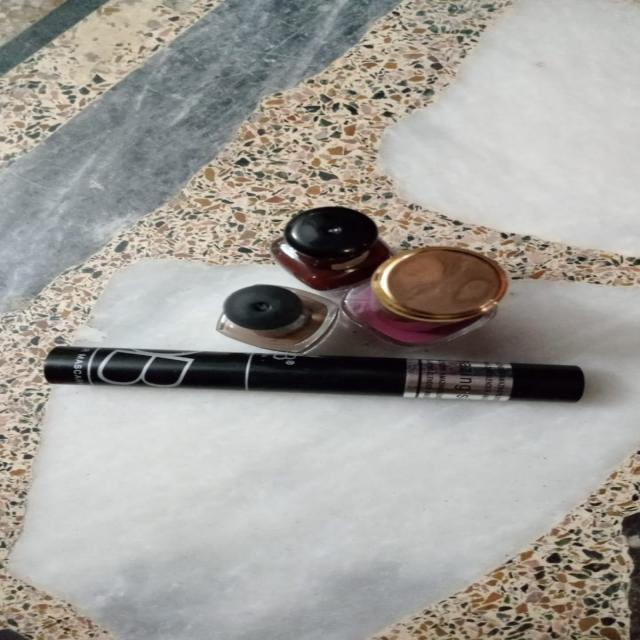mascara: (36, 334, 608, 411)
